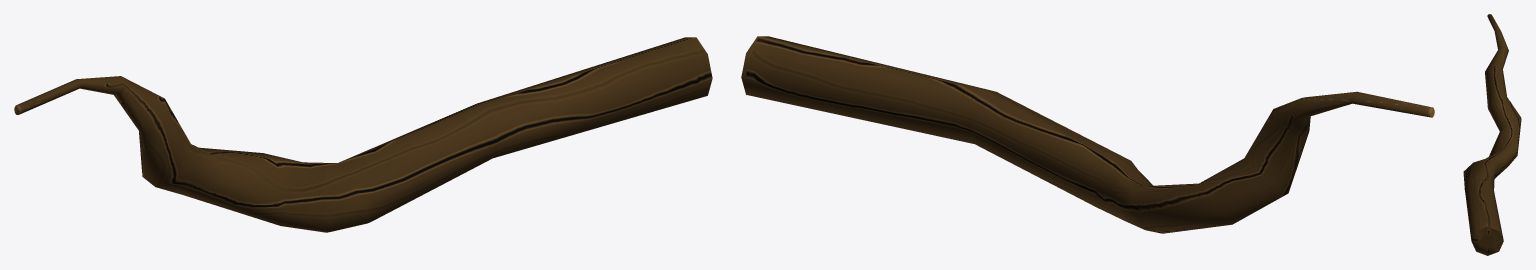
3 views of the same model, side by side, from view 1: azimuth 30°, elevation 25°; view 2: azimuth 150°, elevation 25°; view 3: azimuth 270°, elevation 25° (orthographic). The views are drawn at different scales.
Visible parts, largest first — view 1: Root03_LOD0; view 2: Root03_LOD0; view 3: Root03_LOD0.
Boxes of the visible parts, x1,y1,x2,y2 form: Root03_LOD0: (14, 37, 712, 232); Root03_LOD0: (741, 36, 1434, 233); Root03_LOD0: (1463, 14, 1521, 255).
Size of what is drawn, in the model's own units: 102 by 28.3 by 15.1.
1 material, 1 textured.
